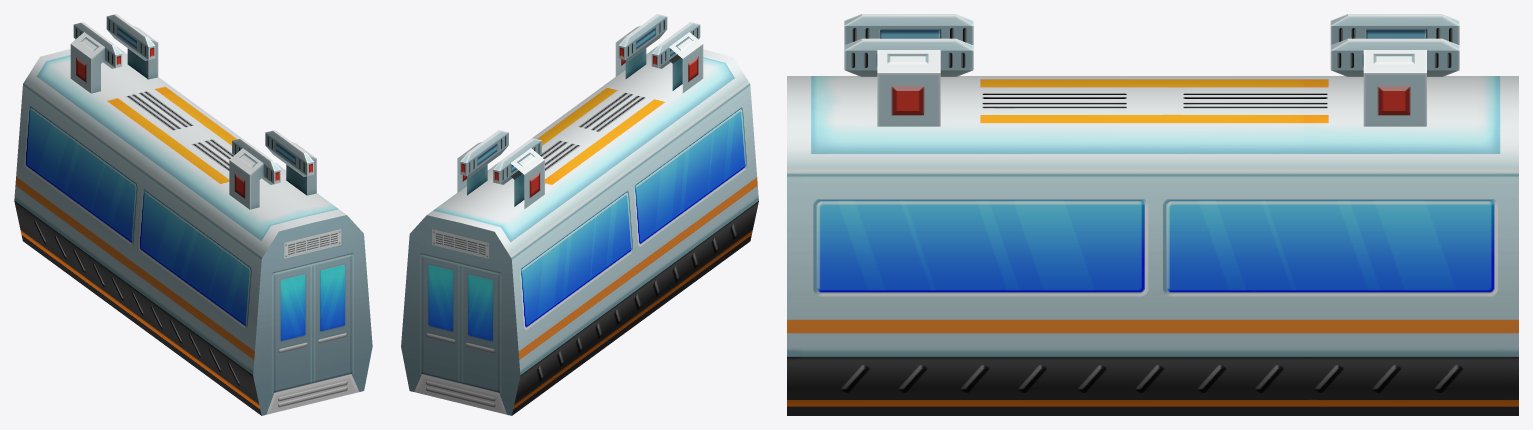
Rendered from Monotrain_Body_White.fbx.
The picture shows the model from 3 angles, left to right: view 1: azimuth 30°, elevation 25°; view 2: azimuth 150°, elevation 25°; view 3: azimuth 270°, elevation 25°; orthographic projection. The views are drawn at different scales.
Visible parts, largest first — view 1: Monotrain_Body_White; view 2: Monotrain_Body_White; view 3: Monotrain_Body_White.
Boxes of the visible parts, box(x1,y1,x2,y2) form: Monotrain_Body_White: box(14, 14, 372, 415); Monotrain_Body_White: box(401, 14, 758, 415); Monotrain_Body_White: box(787, 14, 1518, 415).
Bounding box in the file's own units: 531 × 971 × 1838.
